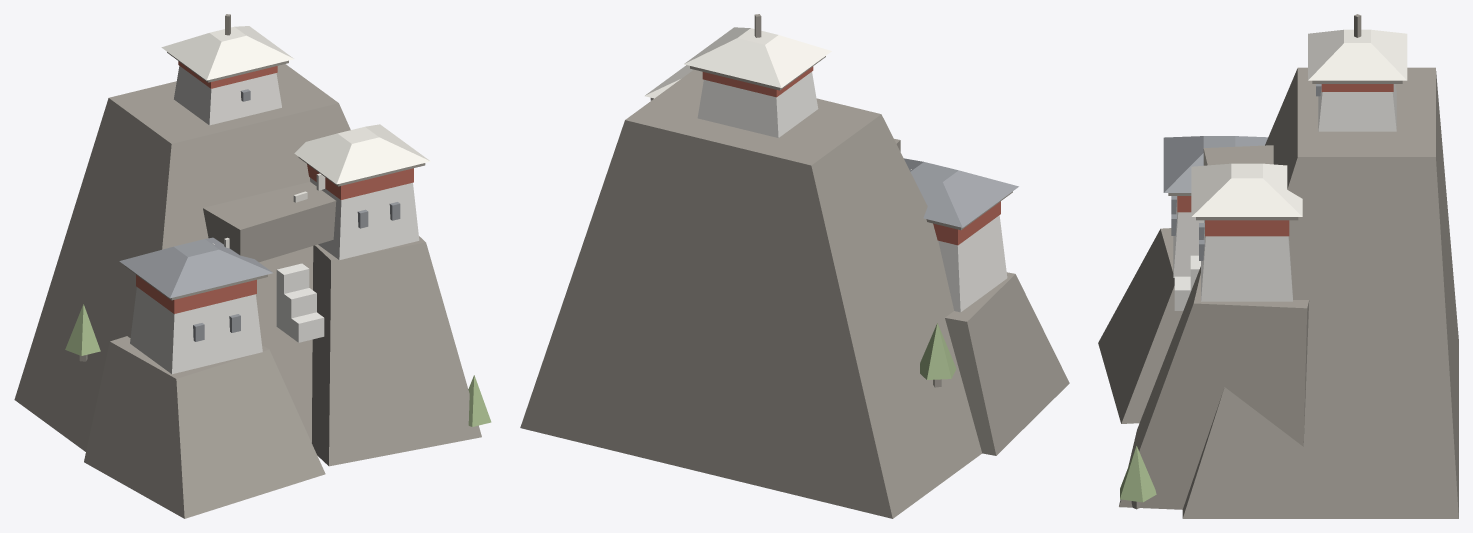
File: temple.glb
The picture shows the model from 3 angles, left to right: view 1: azimuth 30°, elevation 25°; view 2: azimuth 150°, elevation 25°; view 3: azimuth 270°, elevation 25°; orthographic projection. The views are drawn at different scales.
Visible parts, largest first — view 1: highland_temple; view 2: highland_temple; view 3: highland_temple.
Boxes of the visible parts, x1=… form: highland_temple: x1=14, y1=14, x2=491, y2=518; highland_temple: x1=520, y1=14, x2=1069, y2=518; highland_temple: x1=1098, y1=14, x2=1458, y2=518.
Size of the model in its own units: 0.9524 by 0.992 by 0.7837.
